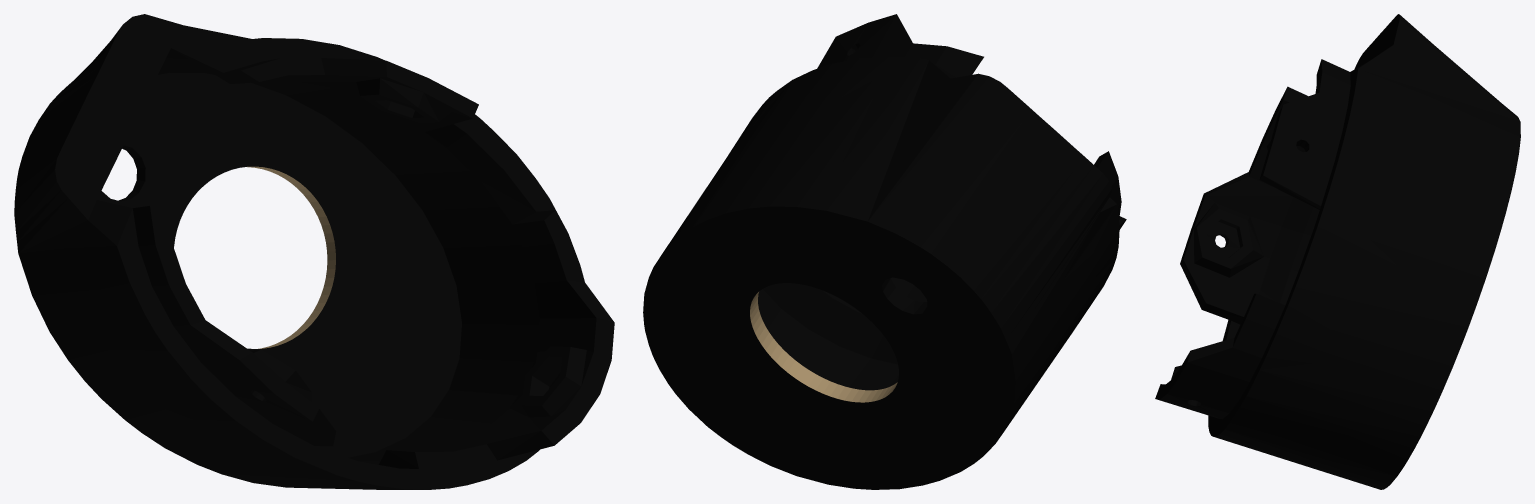
File: Texture.242.dae.full.glb
The picture shows the model from 3 angles, left to right: view 1: azimuth 30°, elevation 25°; view 2: azimuth 150°, elevation 25°; view 3: azimuth 270°, elevation 25°; orthographic projection. The views are drawn at different scales.
Bounding box in the file's own units: 0.5995 × 0.6186 × 0.5338.
